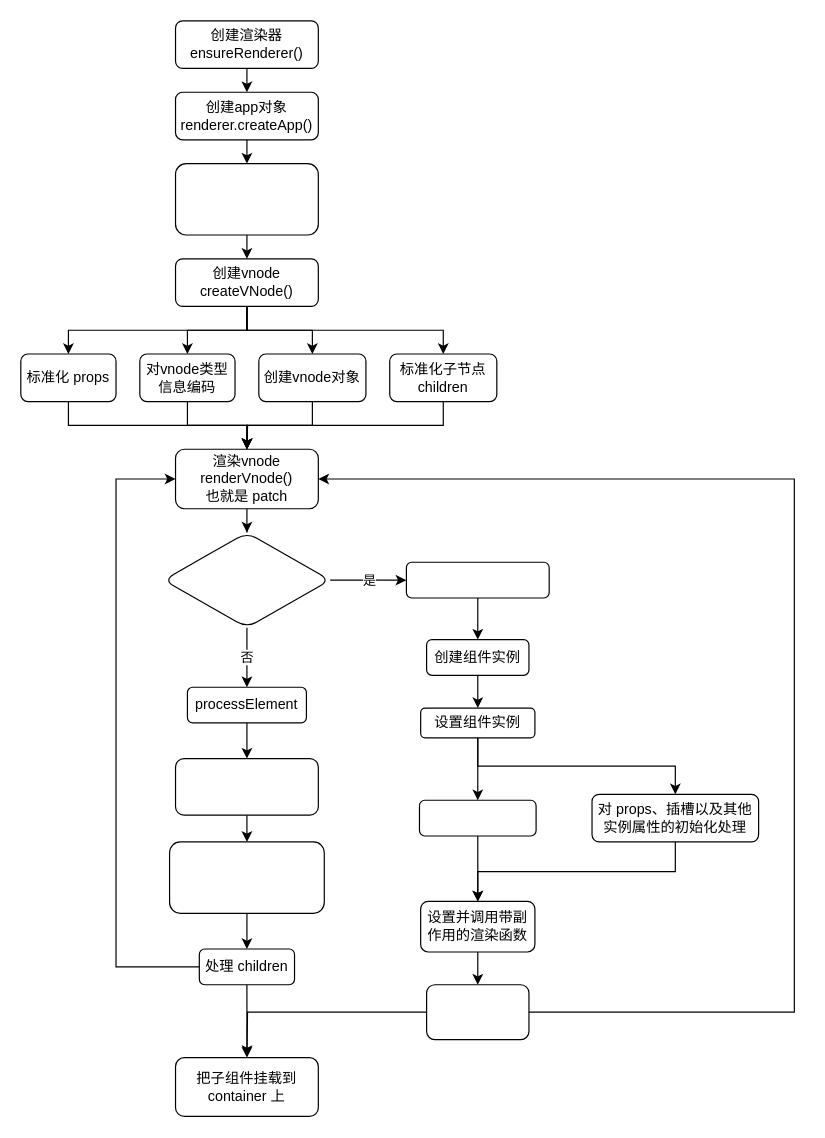
This 825x1138 diagram has some shape labels left out. Here are the shapes that lost their labels. From the top down, the centre of each, then its label:
At (x=246, y=198): "重写app的mount 先创建vnode 后渲染vnode".
At (x=246, y=579): "判断是否 为组件vnode？".
At (x=477, y=579): "processComponent".
At (x=246, y=786): "创建DOM元素节点 createElement".
At (x=477, y=817): "维护组件上下文".
At (x=246, y=877): "处理props 给 DOM 节点添加 class、style、event等".
At (x=477, y=1012): "渲染组件生成 subTree".
